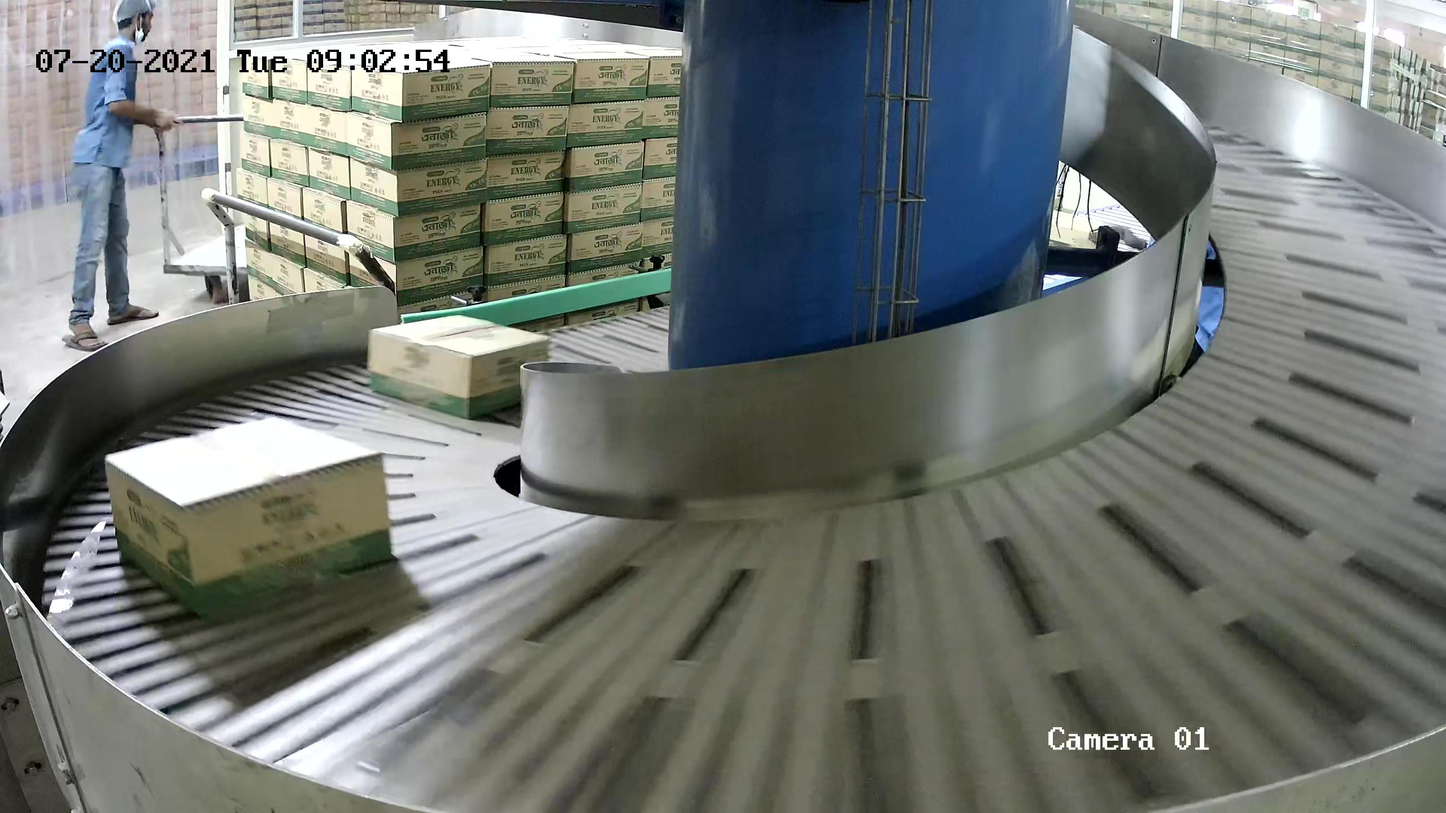Box: (103, 415, 395, 622), (366, 315, 550, 421)
